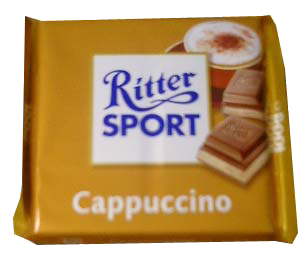grozi_116: (13, 14, 298, 245)
